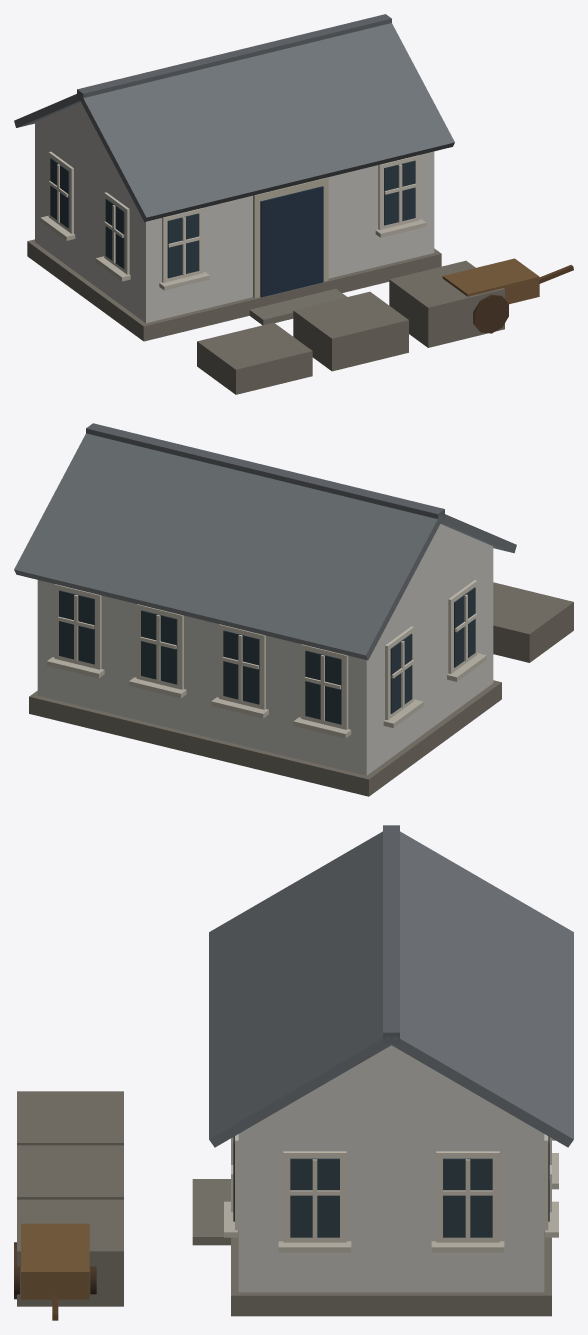
File: procedural_road_depot@6.glb
3 views of the same model, one above another, from view 1: azimuth 30°, elevation 25°; view 2: azimuth 150°, elevation 25°; view 3: azimuth 270°, elevation 25° (orthographic). The views are drawn at different scales.
Visible parts, largest first — view 1: part_0; view 2: part_0; view 3: part_0.
Part boxes in pixels (bbox=[...]): part_0: bbox=[14, 14, 573, 394]; part_0: bbox=[14, 423, 573, 796]; part_0: bbox=[14, 825, 573, 1320].
Size of the model in its own units: 7.71 by 4.15 by 7.33.
